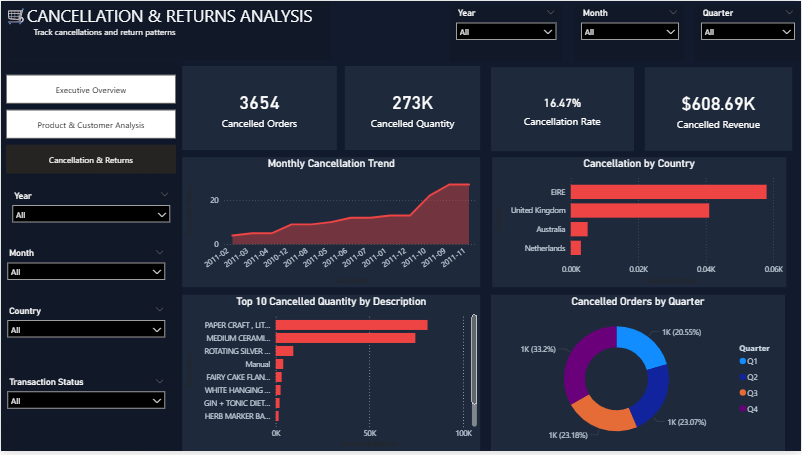

What the dashboard file says about the page in this screenshot:
{"tool":"powerbi","page":{"name":"Cancellation & Returns","canvas":[1280,720],"ordinal":2},"visuals":[{"type":"shape","box":[0,96.7,290,623.3],"z":0},{"type":"textbox","box":[0,0,528.3,94.7],"z":1000},{"type":"slicer","fields":{"Values":["Date Table.Year"]},"box":[718.2,5.5,180,90],"z":2000},{"type":"slicer","fields":{"Values":["Date Table.Month"]},"box":[917.3,6.4,176.4,90],"z":3000},{"type":"slicer","fields":{"Values":["Date Table.Quarter"]},"box":[1110,6.7,170,90],"z":4000},{"type":"card","title":"Total Revenue ","fields":{"Values":["Measures_.Cancelled Orders"]},"box":[290,104.3,247.1,134.3],"z":5000},{"type":"card","title":"Total Revenue ","fields":{"Values":["Measures_.Cancelled Quantity"]},"box":[550,104.3,217.1,134.3],"z":6000},{"type":"card","title":"Total Revenue ","fields":{"Values":["Measures_.Cancellation Rate"]},"box":[784.3,105.7,228.6,134.3],"z":7000},{"type":"card","title":"Total Revenue ","fields":{"Values":["Measures_.Cancelled Revenue"]},"box":[1030,106.2,236.2,133.8],"z":8000},{"type":"areaChart","title":"Monthly Cancellation Trend","fields":{"Category":["Date Table.Year Month"],"Y":["Measures_.Cancelled Orders"]},"box":[290,250,476.7,208.3],"z":9000},{"type":"clusteredBarChart","title":"Cancellation by Country","fields":{"Category":["online_retail.Country"],"Y":["Measures_.Cancelled Orders"]},"box":[785,250,470,208.3],"z":10000},{"type":"barChart","title":"Top 10 Cancelled Quantity by Description","fields":{"Category":["online_retail.Description"],"Y":["Measures_.Cancelled Quantity"]},"box":[290,470,476.7,250],"z":11000},{"type":"donutChart","fields":{"Y":["Measures_.Cancelled Orders"],"Series":["Date Table.Quarter"]},"box":[784,470,470,250],"z":12000},{"type":"slicer","fields":{"Values":["Date Table.Year"]},"box":[8.8,297.5,272.5,77.5],"z":13000},{"type":"slicer","fields":{"Values":["Date Table.Month"]},"box":[0,390,272.5,80],"z":14000},{"type":"slicer","fields":{"Values":["online_retail.Country"]},"box":[0,482.5,272.5,96.2],"z":15000},{"type":"slicer","fields":{"Values":["online_retail.Transaction Status"]},"box":[0,595,272.5,92.5],"z":16000},{"type":"pageNavigator","box":[8.6,118.6,272.9,160],"z":16001}]}

Visuals, with their boxes in screenshot pixels (x1, y1, x2, y2), scaled from the page's 1280x720 canvas onto the 802x455 screenshot:
shape: 0, 61, 182, 454
textbox: 0, 0, 331, 60
slicer - Date Table.Year: 450, 3, 563, 60
slicer - Date Table.Month: 575, 4, 685, 61
slicer - Date Table.Quarter: 695, 4, 801, 61
"Total Revenue " card: 182, 66, 337, 151
"Total Revenue " card: 345, 66, 481, 151
"Total Revenue " card: 491, 67, 635, 152
"Total Revenue " card: 645, 67, 793, 152
"Monthly Cancellation Trend" areaChart: 182, 158, 480, 290
"Cancellation by Country" clusteredBarChart: 492, 158, 786, 290
"Top 10 Cancelled Quantity by Description" barChart: 182, 297, 480, 454
donutChart - Measures_.Cancelled Orders x Date Table.Quarter: 491, 297, 786, 454
slicer - Date Table.Year: 6, 188, 176, 237
slicer - Date Table.Month: 0, 246, 171, 297
slicer - online_retail.Country: 0, 305, 171, 366
slicer - online_retail.Transaction Status: 0, 376, 171, 434
pageNavigator: 5, 75, 176, 176
